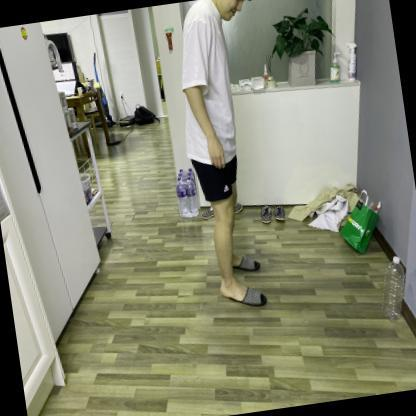no_safety-shoe: (217, 270, 276, 329), (217, 240, 270, 282)
